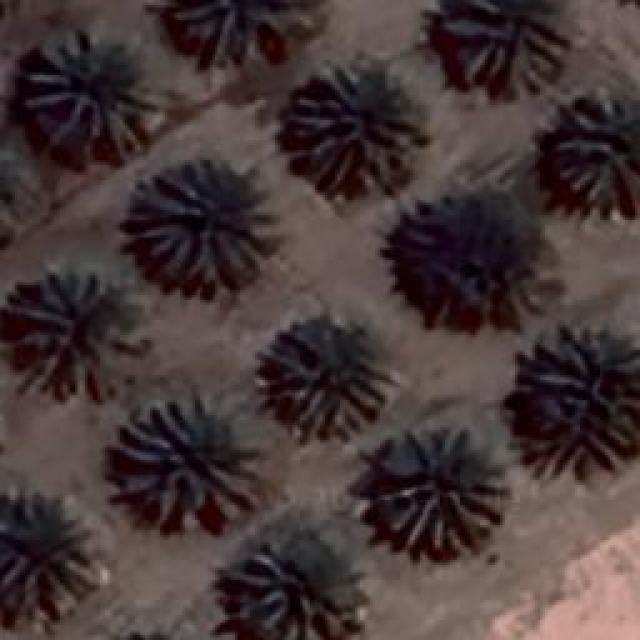PalmTree: (115, 398, 260, 530), (392, 201, 548, 321), (520, 320, 638, 478), (20, 29, 170, 152), (130, 160, 275, 285), (288, 64, 422, 198), (372, 422, 506, 552), (10, 270, 130, 400), (268, 320, 388, 438), (222, 542, 360, 638), (440, 0, 565, 88), (552, 90, 638, 212), (0, 492, 95, 600), (170, 0, 315, 55), (0, 131, 42, 247)
